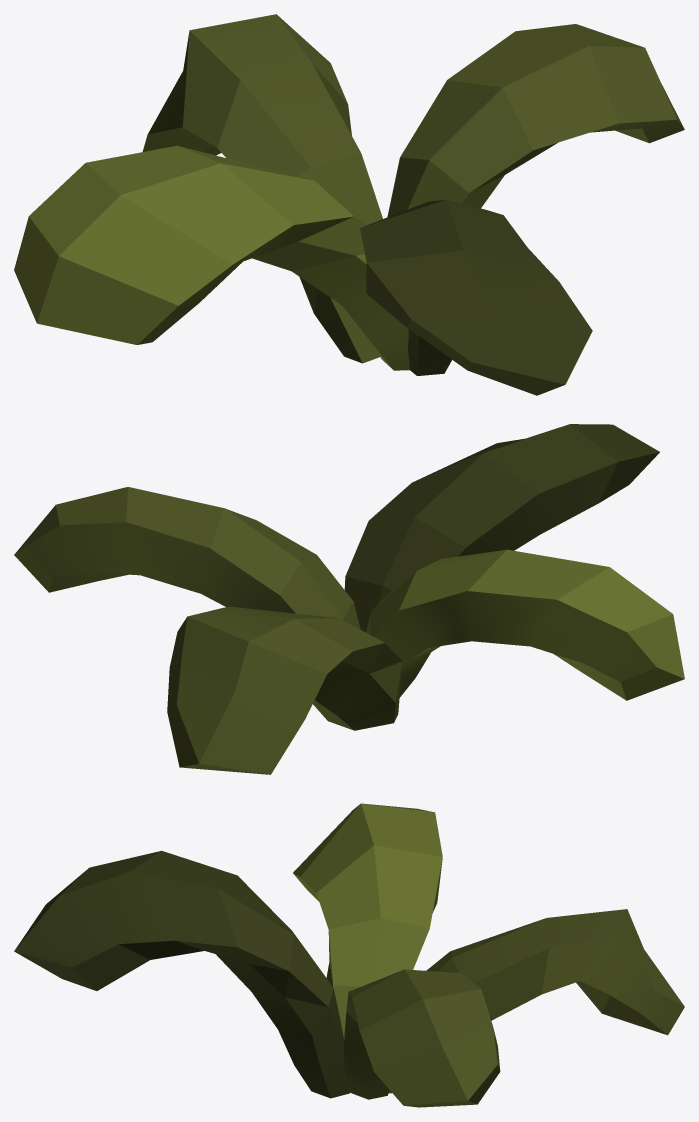
Rendered from ea_swamp_leaf_01b_pre_9_lev1.glb.
3 renders of one model, top to bottom at view 1: azimuth 30°, elevation 25°; view 2: azimuth 150°, elevation 25°; view 3: azimuth 270°, elevation 25°, orthographic. The views are drawn at different scales.
Visible parts, largest first — view 1: ea_swamp_leaf_01b_pre_9_lev1; view 2: ea_swamp_leaf_01b_pre_9_lev1; view 3: ea_swamp_leaf_01b_pre_9_lev1.
Boxes of the visible parts, <box> form: ea_swamp_leaf_01b_pre_9_lev1: <box>14,14,684,395</box>; ea_swamp_leaf_01b_pre_9_lev1: <box>14,424,684,774</box>; ea_swamp_leaf_01b_pre_9_lev1: <box>14,803,684,1107</box>.
Size of the model in its own units: 2.38 by 0.7637 by 2.56.
Materials: 1 (1 with a texture image).
